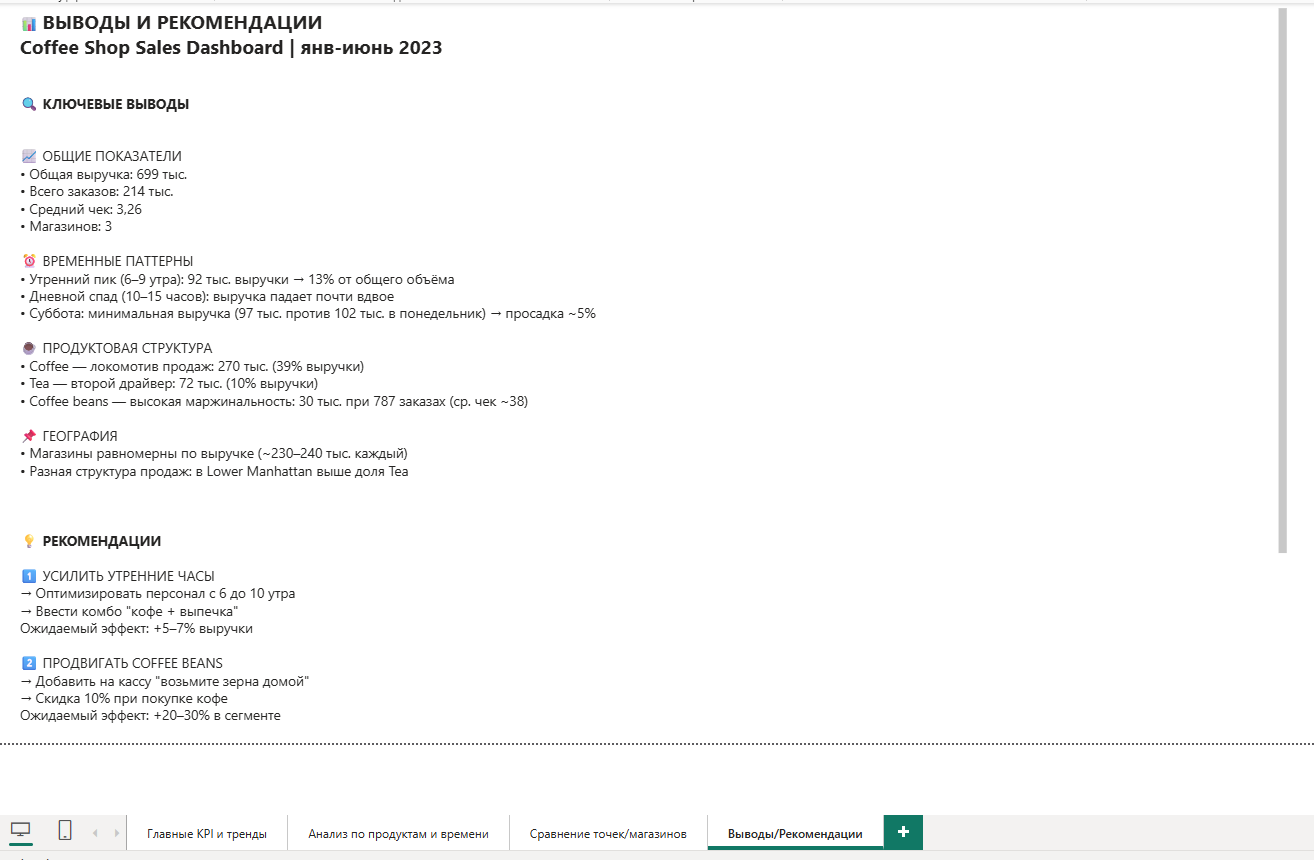

What the dashboard file says about the page in this screenshot:
{"tool":"powerbi","page":{"name":"Выводы/Рекомендации","canvas":[1280,720],"ordinal":3},"visuals":[{"type":"textbox","box":[15.6,0,1242.1,719.8],"z":0}]}

Visuals, with their boxes on the page's 1280x720 design canvas (x1, y1, x2, y2). These are canvas units, not pixel positions in the 1314x860 screenshot, which may show the page scaled, cropped or inside an application window:
textbox: rect(16, 0, 1258, 720)
